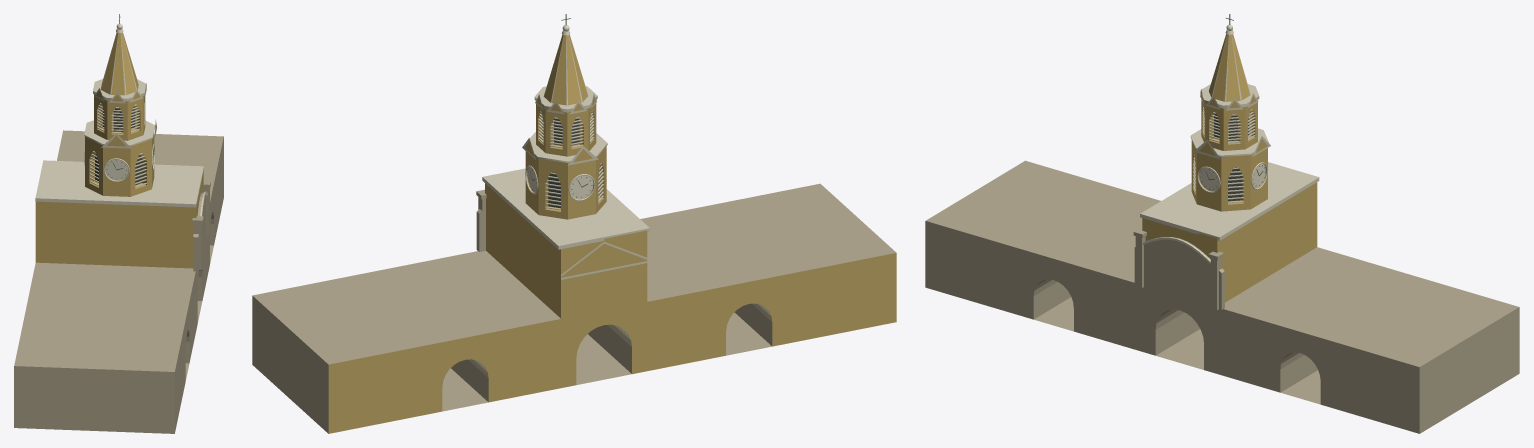
File: torre-reloj-cartagena-near.glb
The picture shows the model from 3 angles, left to right: view 1: azimuth 30°, elevation 25°; view 2: azimuth 150°, elevation 25°; view 3: azimuth 270°, elevation 25°; orthographic projection. The views are drawn at different scales.
Parts seen in each view (by area): view 1: torre-reloj-cartagena-0-stone, torre-reloj-cartagena-0-yellow, torre-reloj-cartagena-0-trim, torre-reloj-cartagena-0-shadow, torre-reloj-cartagena-0-clock; view 2: torre-reloj-cartagena-0-yellow, torre-reloj-cartagena-0-stone, torre-reloj-cartagena-0-trim, torre-reloj-cartagena-0-shadow, torre-reloj-cartagena-0-clock; view 3: torre-reloj-cartagena-0-stone, torre-reloj-cartagena-0-yellow, torre-reloj-cartagena-0-trim, torre-reloj-cartagena-0-shadow, torre-reloj-cartagena-0-clock.
Part boxes in pixels (x1,y1,x2,y2): torre-reloj-cartagena-0-stone: (14, 130, 223, 433); torre-reloj-cartagena-0-yellow: (35, 32, 203, 268); torre-reloj-cartagena-0-trim: (35, 23, 207, 216); torre-reloj-cartagena-0-shadow: (95, 106, 142, 184); torre-reloj-cartagena-0-clock: (105, 157, 152, 180); torre-reloj-cartagena-0-yellow: (328, 34, 896, 433); torre-reloj-cartagena-0-stone: (252, 183, 896, 433); torre-reloj-cartagena-0-trim: (482, 25, 649, 279); torre-reloj-cartagena-0-shadow: (548, 117, 579, 208); torre-reloj-cartagena-0-clock: (527, 167, 593, 199); torre-reloj-cartagena-0-stone: (925, 160, 1519, 433); torre-reloj-cartagena-0-yellow: (1142, 34, 1317, 302); torre-reloj-cartagena-0-trim: (1140, 24, 1319, 264); torre-reloj-cartagena-0-shadow: (1214, 114, 1248, 201); torre-reloj-cartagena-0-clock: (1199, 163, 1265, 191).
Size of the model in its own units: 43.78 by 31.5 by 53.21.
